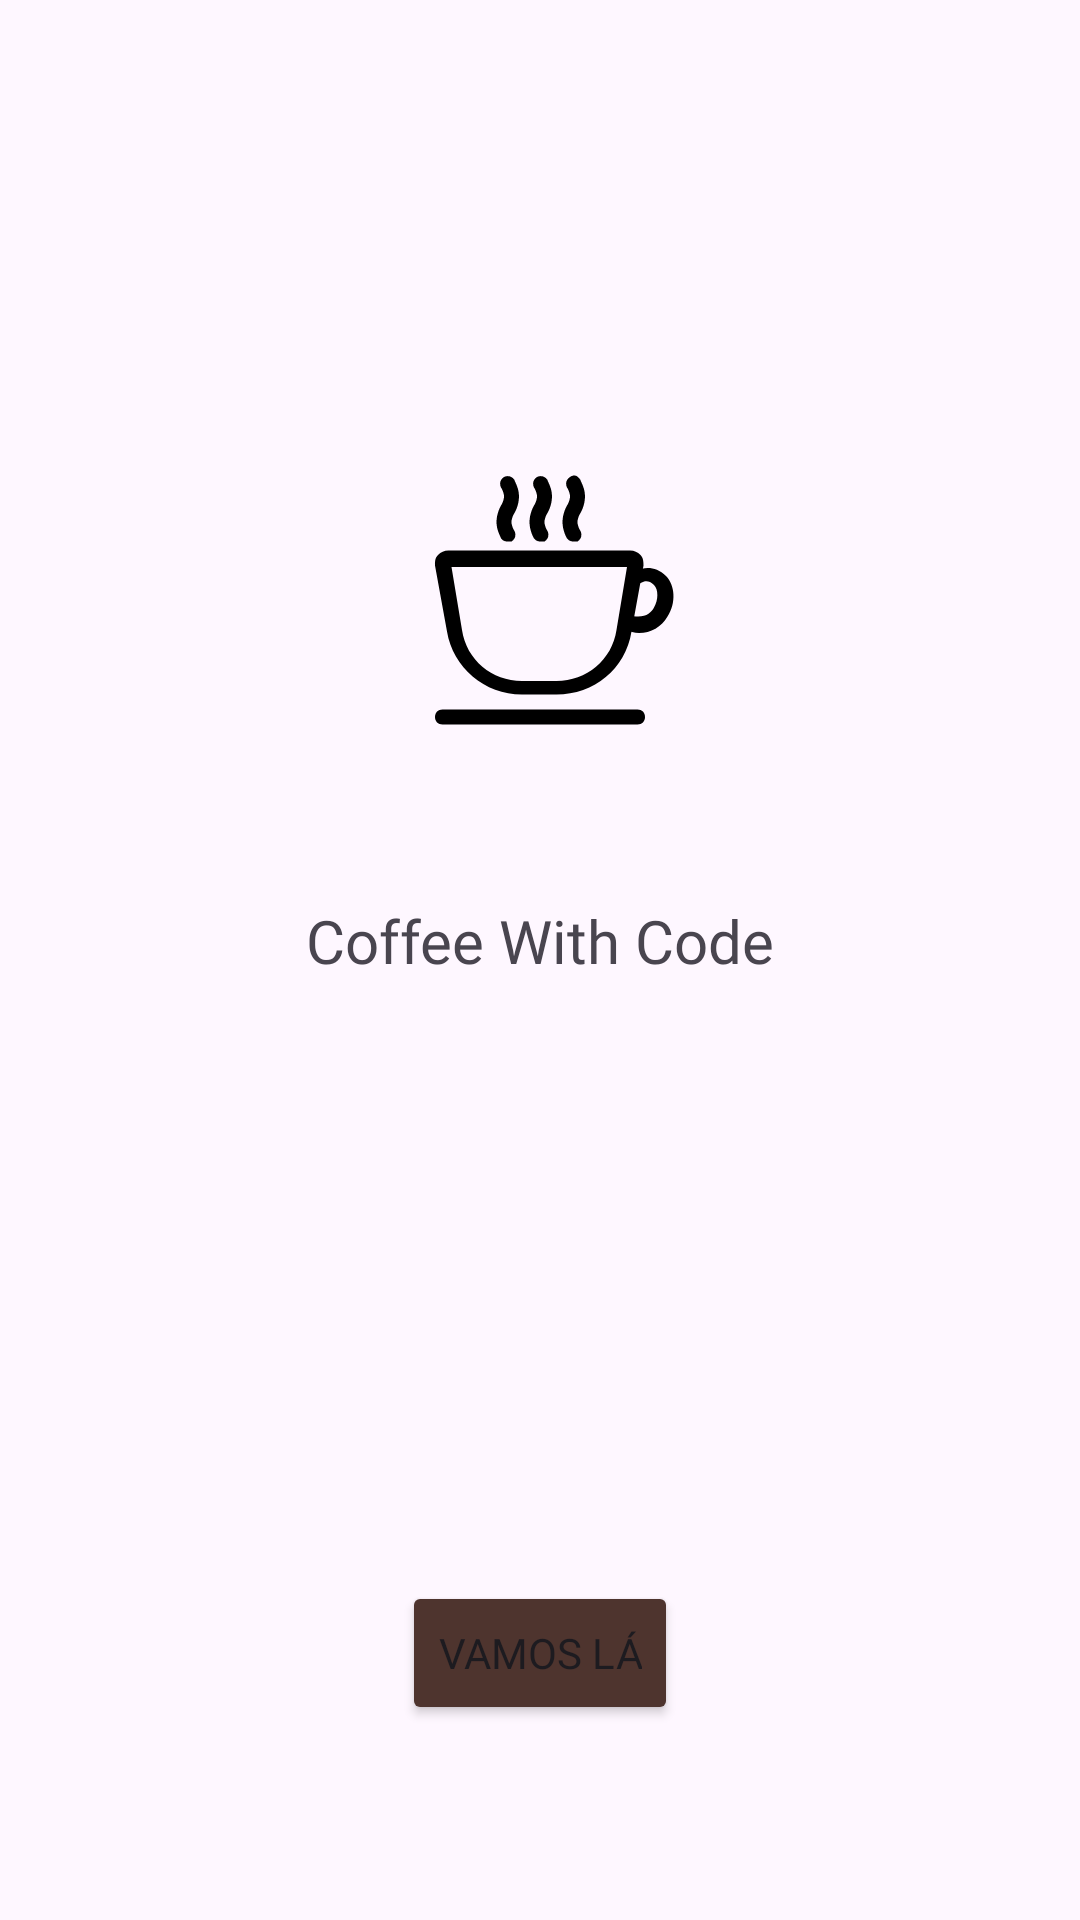

Named icons in this screenshot (1080×1920) and their bounding boxes, bbox(x1, y1, x2, y2):
coffe tea: bbox(435, 475, 674, 725)
